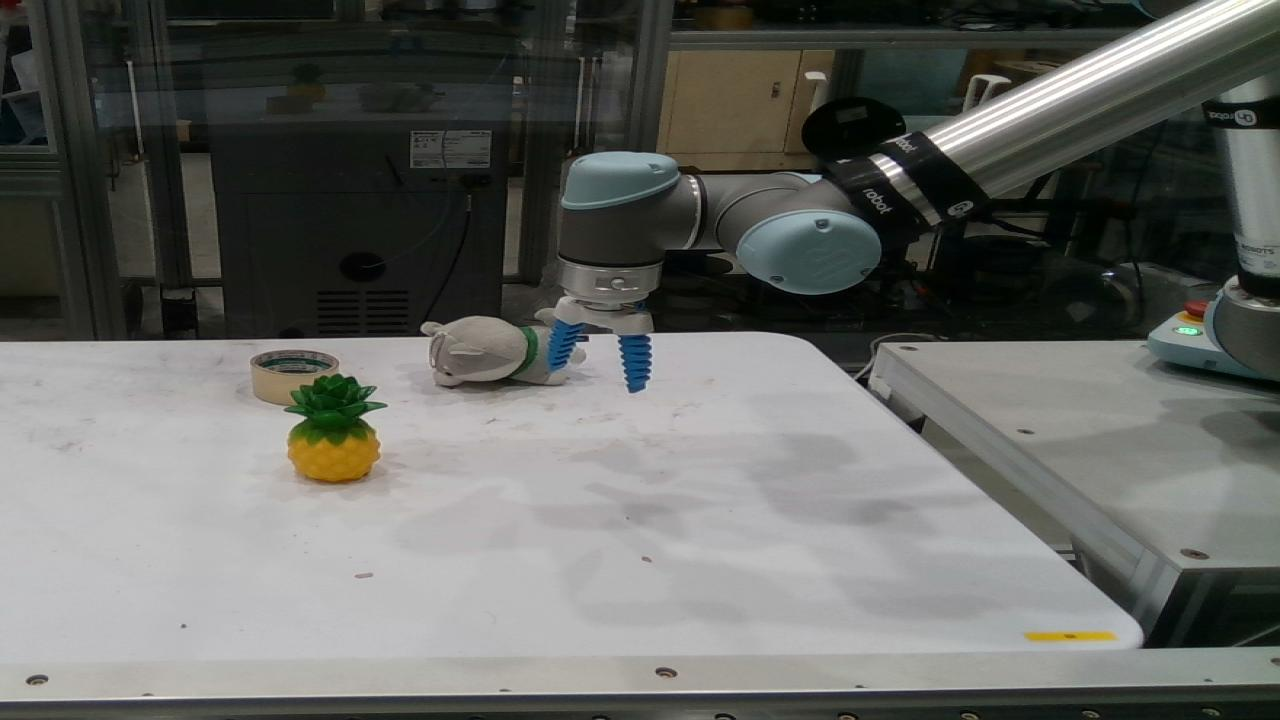UR5: (562, 0, 1274, 377)
gripper_left: (550, 322, 582, 367)
gripper_right: (622, 335, 650, 390)
target: (424, 315, 588, 386), (284, 376, 382, 480), (252, 351, 334, 404)
